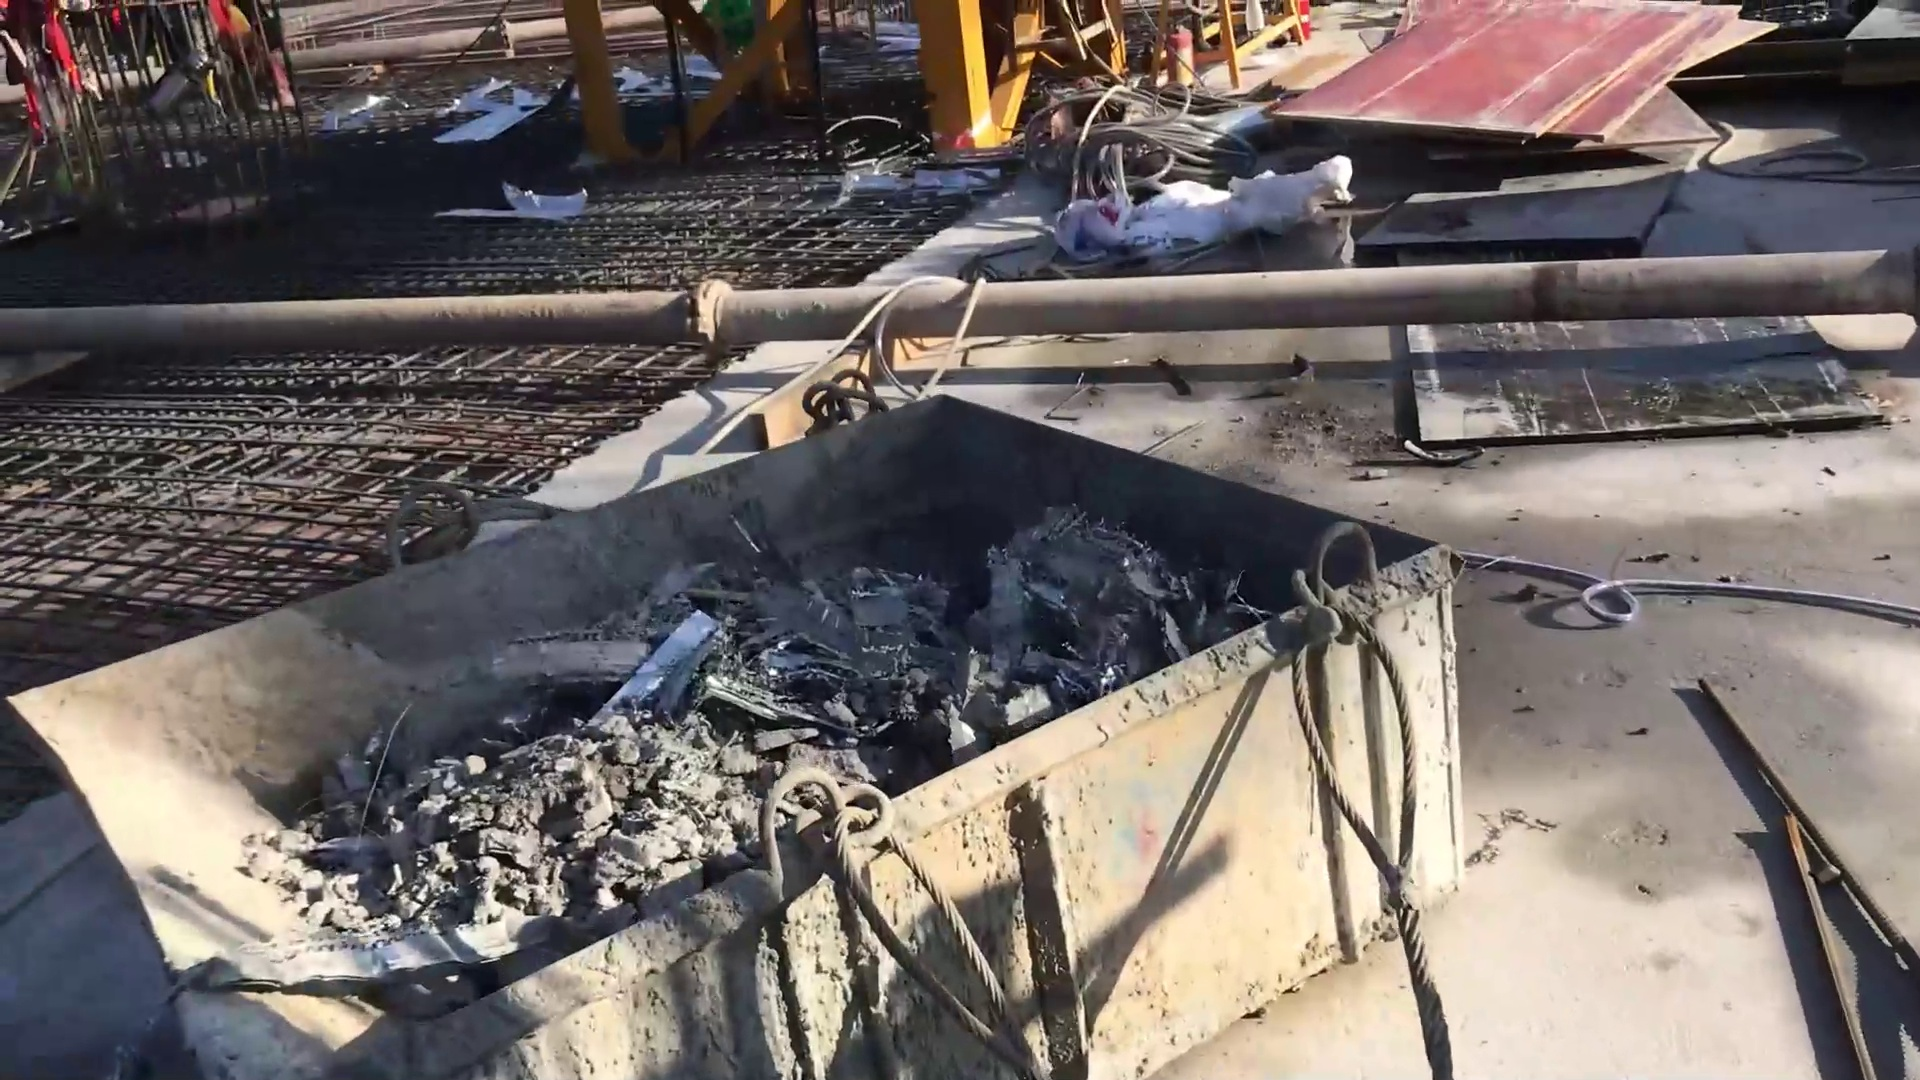hopper: (12, 385, 1519, 1077)
